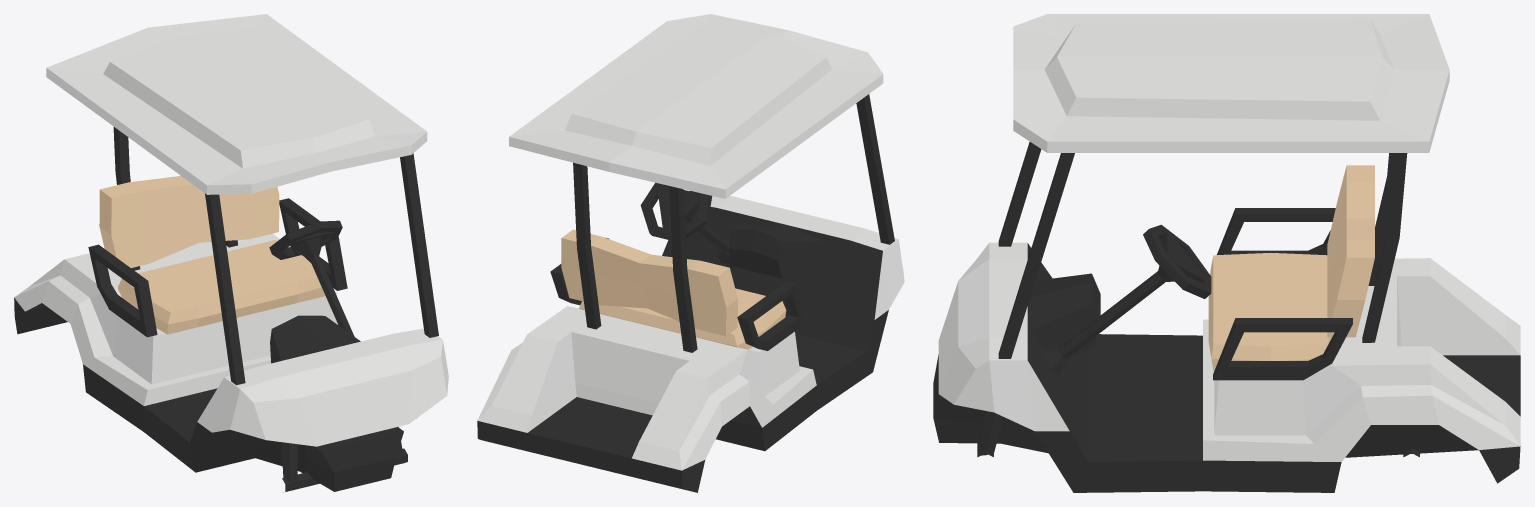
The model's file is golf-cart-base.glb.
3 renders of one model, left to right at view 1: azimuth 30°, elevation 25°; view 2: azimuth 150°, elevation 25°; view 3: azimuth 270°, elevation 25°, orthographic. The views are drawn at different scales.
Parts seen in each view (by area): view 1: golf-cart-base; view 2: golf-cart-base; view 3: golf-cart-base.
Part boxes in pixels (left/top/right/bottom): golf-cart-base: left=14, top=14, right=448, bottom=491; golf-cart-base: left=477, top=14, right=904, bottom=492; golf-cart-base: left=933, top=14, right=1520, bottom=492.
Bounding box in the file's own units: 1.21 × 1.66 × 2.34.
Materials: 1 (1 with a texture image).
